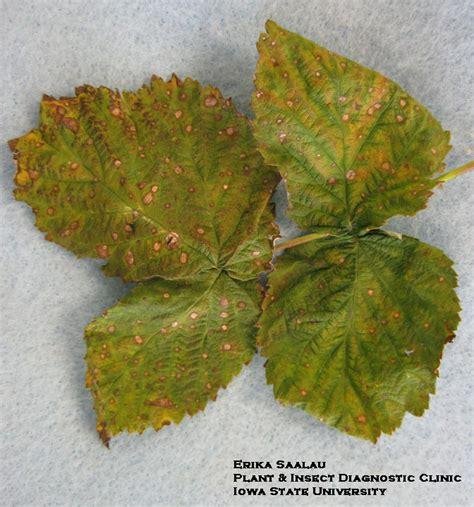black-spot: (129, 145, 193, 212)
